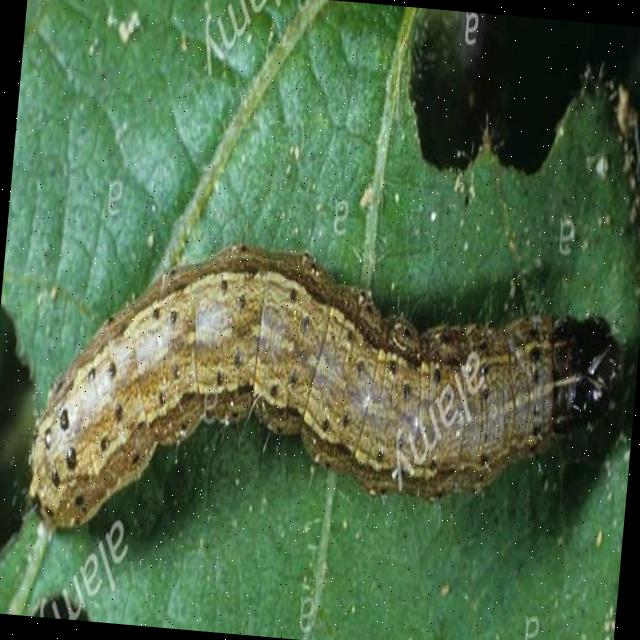worm: (1, 223, 631, 591)
